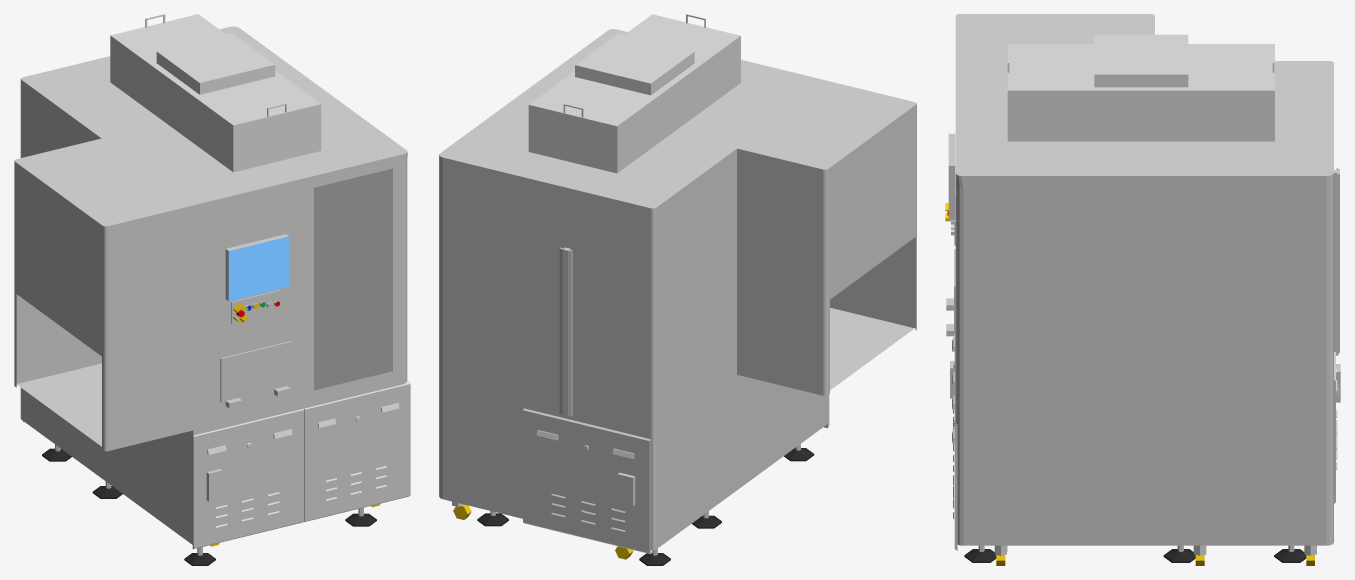
3 views of the same model, side by side, from view 1: azimuth 30°, elevation 25°; view 2: azimuth 150°, elevation 25°; view 3: azimuth 270°, elevation 25° (orthographic). The views are drawn at different scales.
Parts seen in each view (by area): view 1: 5hao_001; view 2: 5hao_001; view 3: 5hao_001.
Boxes of the visible parts, bbox=[...] form: 5hao_001: bbox=[14, 14, 410, 565]; 5hao_001: bbox=[439, 14, 916, 565]; 5hao_001: bbox=[945, 14, 1340, 565].
Bounding box in the file's own units: 171 × 229 × 176.
